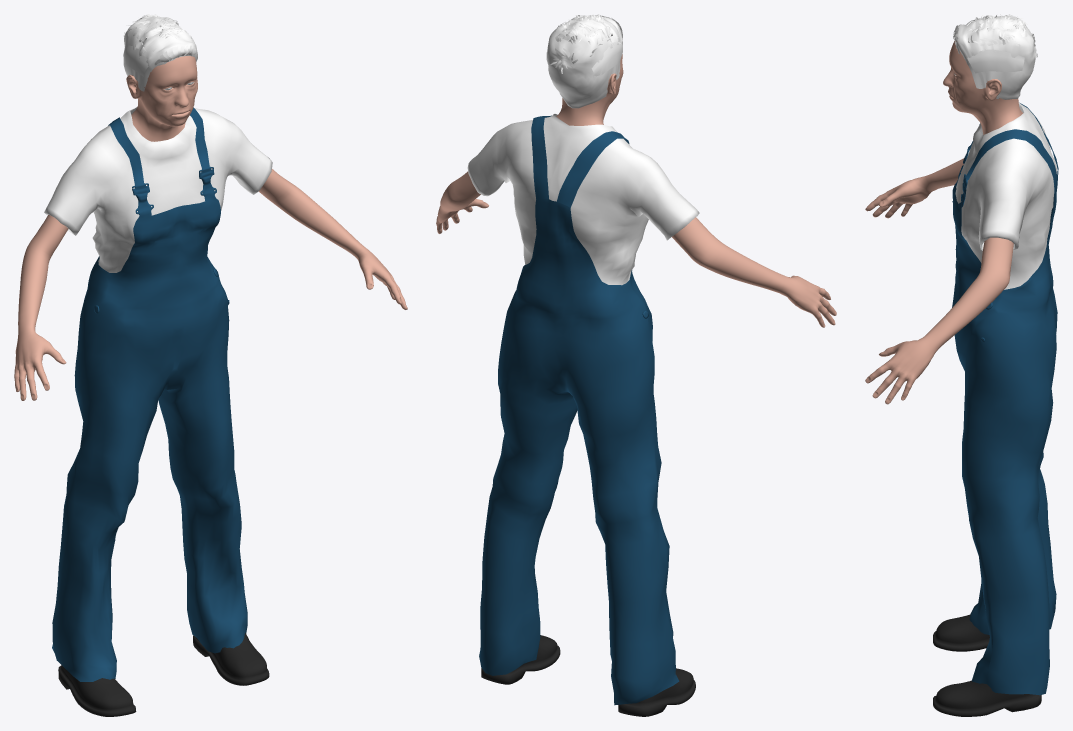
The model's file is OldMcdon.fbx.
3 renders of one model, left to right at view 1: azimuth 30°, elevation 25°; view 2: azimuth 150°, elevation 25°; view 3: azimuth 270°, elevation 25°, orthographic.
Parts seen in each view (by area): view 1: male_worksuit01Mesh, oldmcdonMesh, shoes04Mesh, short01Mesh; view 2: male_worksuit01Mesh, oldmcdonMesh, short01Mesh, shoes04Mesh; view 3: male_worksuit01Mesh, oldmcdonMesh, short01Mesh, shoes04Mesh.
Part boxes in pixels (bbox=[...]): male_worksuit01Mesh: bbox=[44, 107, 272, 681]; oldmcdonMesh: bbox=[14, 56, 407, 400]; shoes04Mesh: bbox=[58, 633, 269, 716]; short01Mesh: bbox=[123, 14, 197, 91]; male_worksuit01Mesh: bbox=[467, 114, 699, 705]; oldmcdonMesh: bbox=[436, 54, 836, 327]; short01Mesh: bbox=[546, 14, 622, 108]; shoes04Mesh: bbox=[481, 635, 695, 716]; male_worksuit01Mesh: bbox=[952, 102, 1058, 695]; oldmcdonMesh: bbox=[865, 41, 1022, 404]; short01Mesh: bbox=[953, 14, 1037, 99]; shoes04Mesh: bbox=[933, 614, 1041, 716].
Size of the model in its own units: 10.09 by 16.52 by 4.4.
